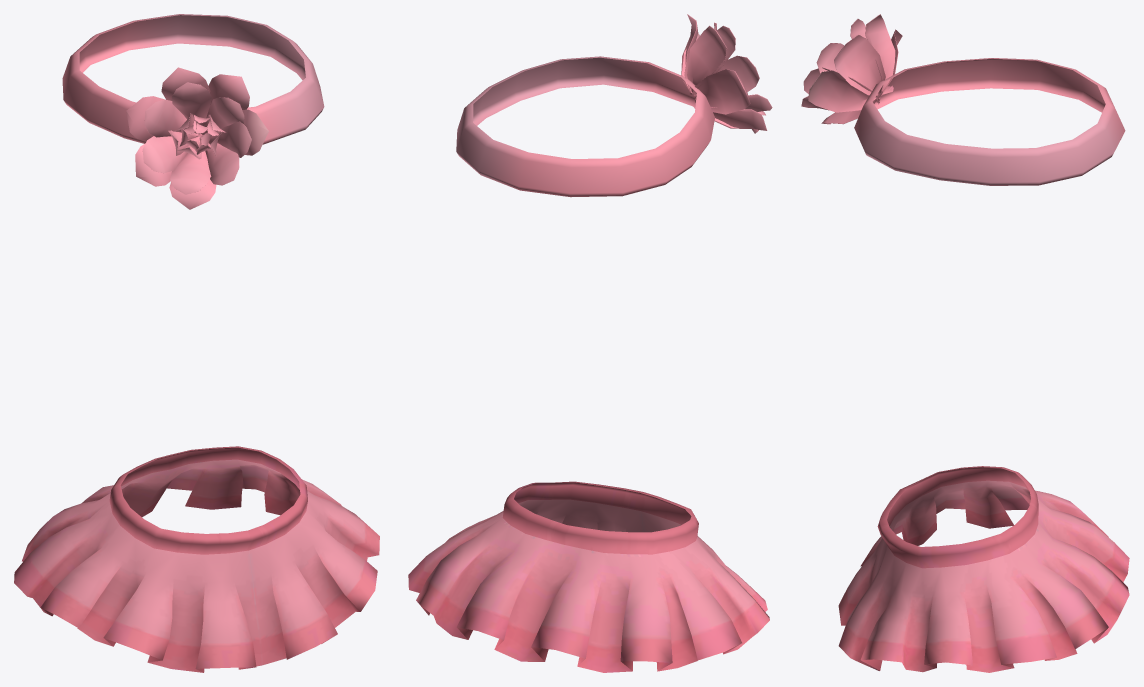
The model's file is frok.fbx.
The picture shows the model from 3 angles, left to right: view 1: azimuth 30°, elevation 25°; view 2: azimuth 150°, elevation 25°; view 3: azimuth 270°, elevation 25°; orthographic projection. The views are drawn at different scales.
Visible parts, largest first — view 1: polySurface28, polySurface27; view 2: polySurface28, polySurface27; view 3: polySurface28, polySurface27.
Boxes of the visible parts, x1,y1,x2,y2 form: polySurface28: (14, 446, 379, 672); polySurface27: (62, 14, 324, 209); polySurface28: (408, 481, 769, 672); polySurface27: (456, 14, 772, 197); polySurface28: (838, 466, 1129, 672); polySurface27: (801, 14, 1125, 185).
Size of the model in its own units: 33.94 by 60.23 by 30.25.
Materials: 1 (1 with a texture image).
